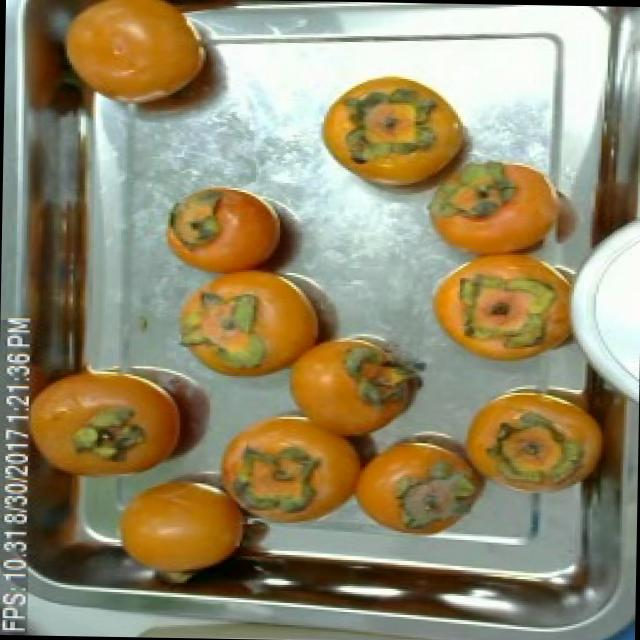Fruit: (7, 322, 221, 478), (419, 236, 592, 376), (448, 372, 622, 508), (48, 0, 234, 122), (336, 408, 504, 542), (312, 68, 478, 203), (268, 323, 436, 452), (200, 398, 358, 519), (100, 472, 266, 583), (154, 176, 298, 286)
